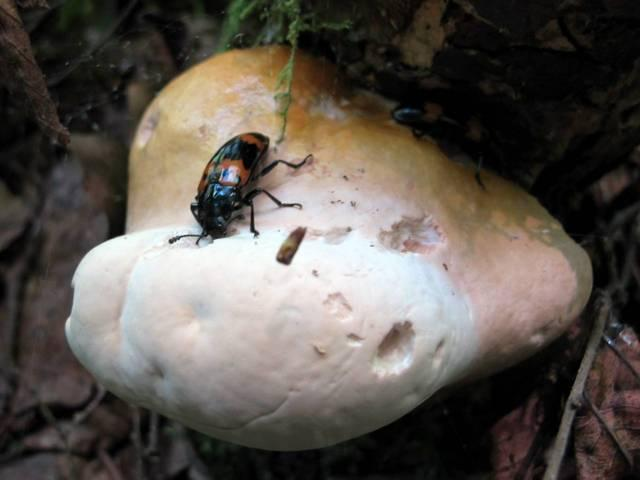poisonous_mushroom: (63, 42, 594, 454)
